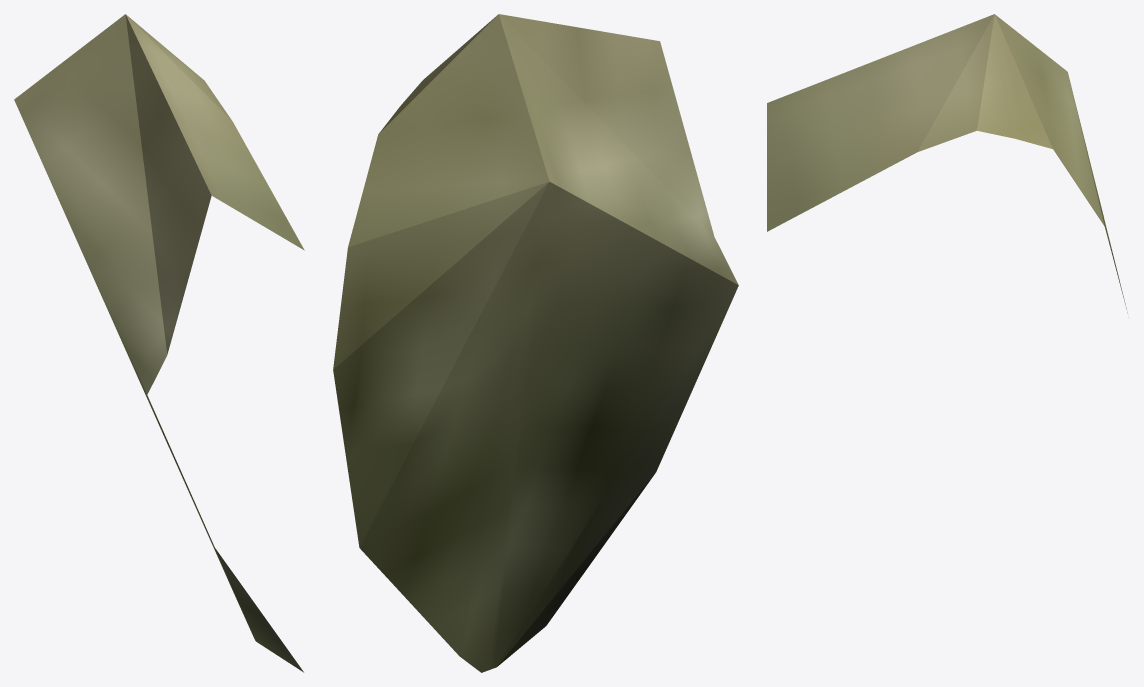
3 views of the same model, side by side, from view 1: azimuth 30°, elevation 25°; view 2: azimuth 150°, elevation 25°; view 3: azimuth 270°, elevation 25° (orthographic). The views are drawn at different scales.
Bounding box in the file's own units: 0.174 × 0.6294 × 0.3323.
Materials: 1 (1 with a texture image).
